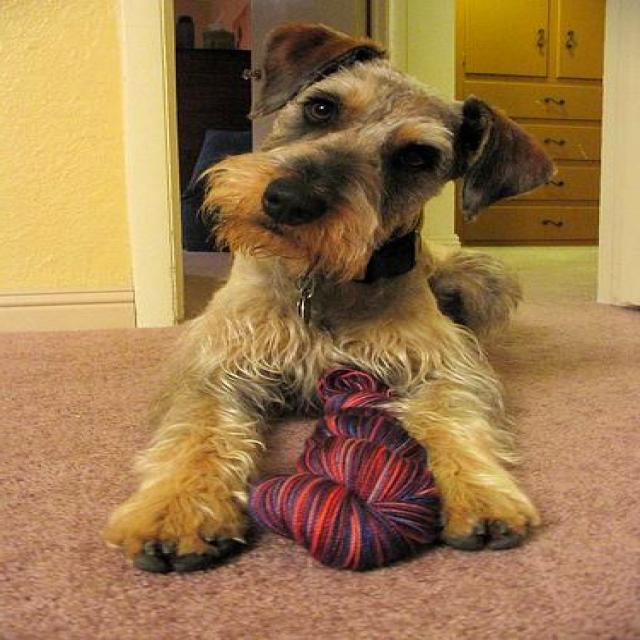standard_schnauzer: (102, 19, 560, 572)
